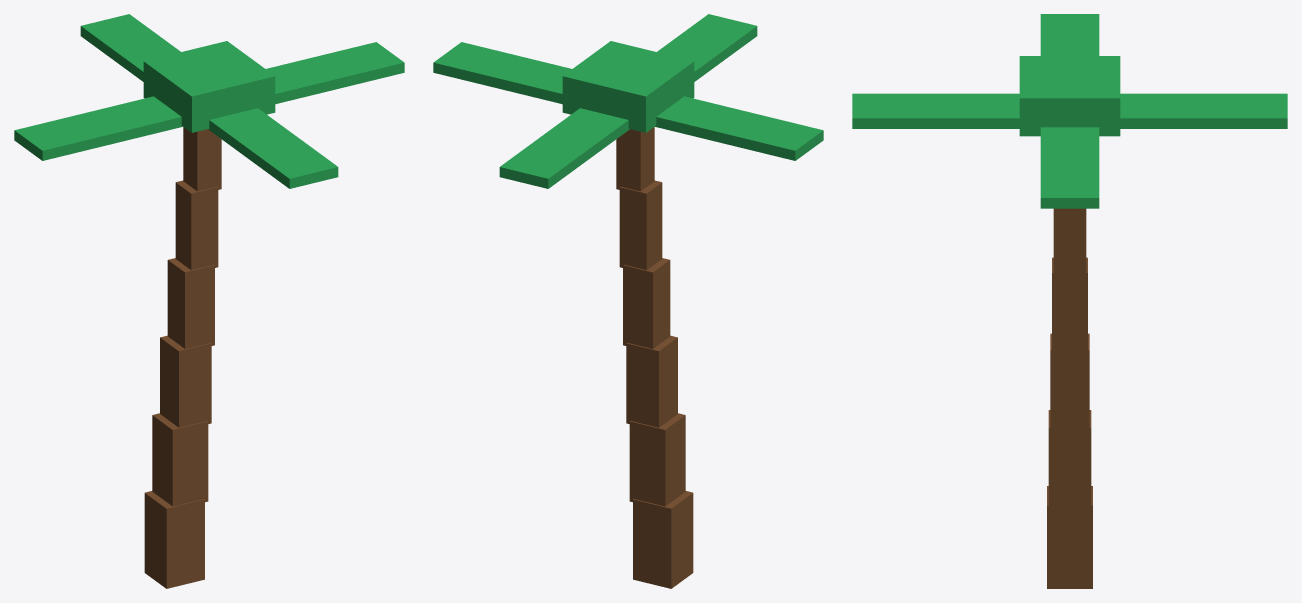
The model's file is blocky-palm.glb.
3 renders of one model, left to right at view 1: azimuth 30°, elevation 25°; view 2: azimuth 150°, elevation 25°; view 3: azimuth 270°, elevation 25°, orthographic. The views are drawn at different scales.
Visible parts, largest first — view 1: palm; view 2: palm; view 3: palm.
Part boxes in pixels (left/top/right/bottom): palm: left=14, top=14, right=404, bottom=588; palm: left=433, top=14, right=823, bottom=588; palm: left=852, top=14, right=1287, bottom=588.
Size of the model in its own units: 5.2 by 6.85 by 5.2.
